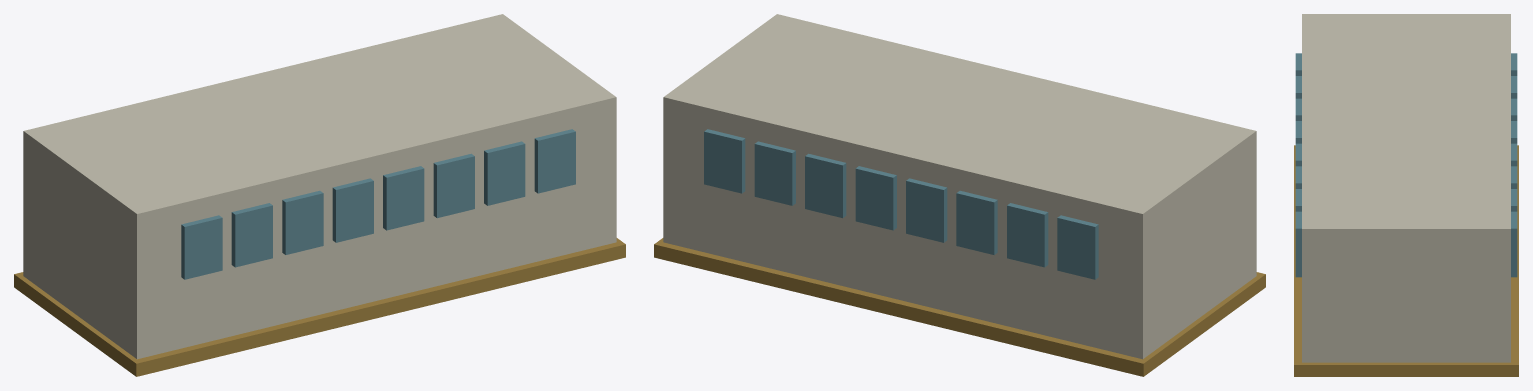
Rendered from custom-vehicle-maglev.glb.
3 views of the same model, side by side, from view 1: azimuth 30°, elevation 25°; view 2: azimuth 150°, elevation 25°; view 3: azimuth 270°, elevation 25° (orthographic). The views are drawn at different scales.
Visible parts, largest first — view 1: custom-vehicle-maglev; view 2: custom-vehicle-maglev; view 3: custom-vehicle-maglev.
Part boxes in pixels (left/top/right/bottom): custom-vehicle-maglev: left=14, top=14, right=625, bottom=376; custom-vehicle-maglev: left=654, top=14, right=1265, bottom=376; custom-vehicle-maglev: left=1294, top=14, right=1518, bottom=376.
Bounding box in the file's own units: 1 × 0.3093 × 0.433.
